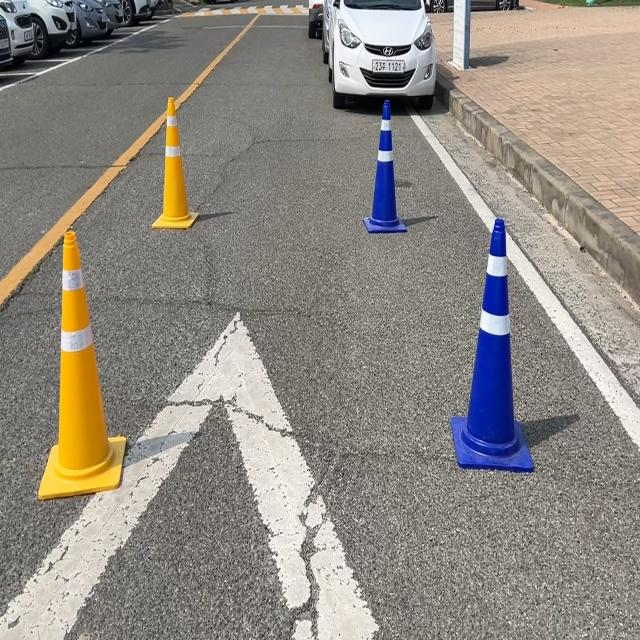b_rub: (452, 217, 534, 471), (363, 98, 407, 232)
y_rub: (38, 229, 126, 500), (152, 95, 198, 228)
